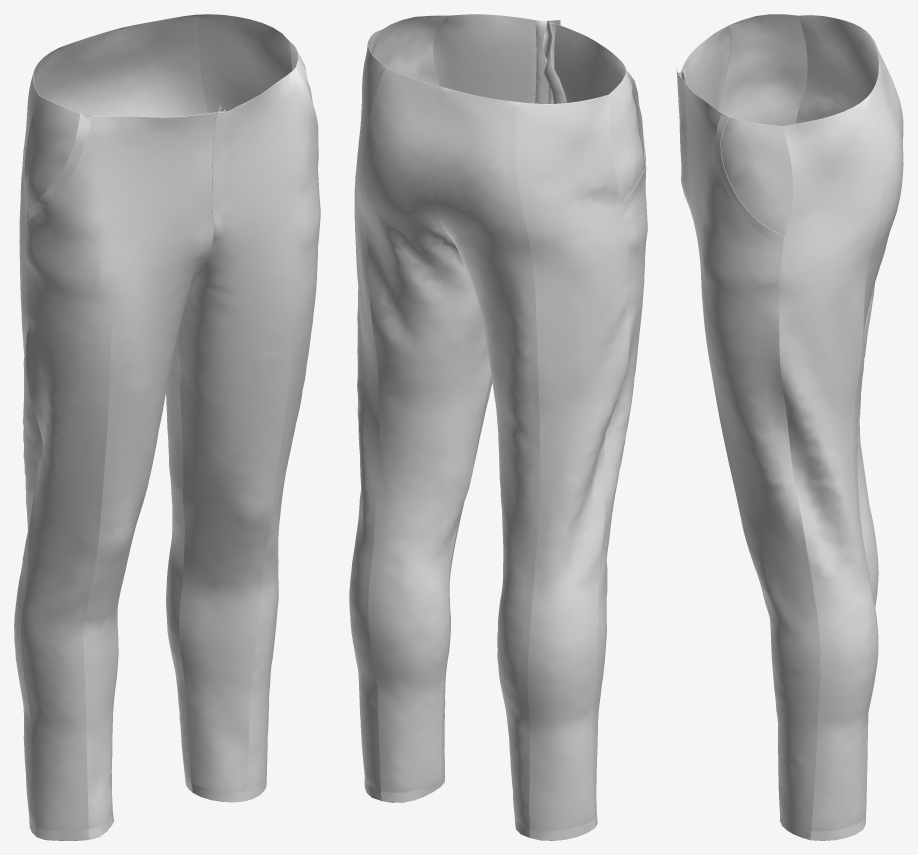
The model's file is flat_front.glb.
3 views of the same model, side by side, from view 1: azimuth 30°, elevation 25°; view 2: azimuth 150°, elevation 25°; view 3: azimuth 270°, elevation 25° (orthographic). The views are drawn at different scales.
Visible parts, largest first — view 1: Pattern_889322_Node, Pattern_889325_Node, Pattern_889317_Node, Pattern_889309_Node, Pattern_1021232_Node, Pattern_889323_Node, Pattern_889319_Node, Pattern_889321_Node; view 2: Pattern_889309_Node, Pattern_889317_Node, Pattern_889322_Node, Pattern_889325_Node, Pattern_1021233_Node, Pattern_1021232_Node, Pattern_2661109_Node, Pattern_889310_Node, Pattern_2703632_Node, Pattern_889315_Node; view 3: Pattern_889317_Node, Pattern_889325_Node, Pattern_889309_Node, Pattern_1021232_Node, Pattern_1021233_Node, Pattern_889322_Node, Pattern_889324_Node, Pattern_889315_Node.
Boxes of the visible parts, bbox=[...] form: Pattern_889322_Node: bbox=[21, 112, 215, 831]; Pattern_889325_Node: bbox=[178, 73, 320, 791]; Pattern_889317_Node: bbox=[112, 14, 292, 782]; Pattern_889309_Node: bbox=[14, 27, 122, 825]; Pattern_1021232_Node: bbox=[24, 95, 97, 207]; Pattern_889323_Node: bbox=[26, 113, 92, 222]; Pattern_889319_Node: bbox=[36, 812, 114, 840]; Pattern_889321_Node: bbox=[191, 777, 266, 802]; Pattern_889309_Node: bbox=[432, 88, 629, 830]; Pattern_889317_Node: bbox=[349, 29, 490, 792]; Pattern_889322_Node: bbox=[554, 24, 647, 818]; Pattern_889325_Node: bbox=[433, 14, 560, 776]; Pattern_1021233_Node: bbox=[373, 15, 447, 86]; Pattern_1021232_Node: bbox=[609, 63, 643, 203]; Pattern_2661109_Node: bbox=[542, 20, 566, 103]; Pattern_889310_Node: bbox=[514, 814, 594, 840]; Pattern_2703632_Node: bbox=[534, 20, 546, 103]; Pattern_889315_Node: bbox=[364, 778, 441, 802]; Pattern_889317_Node: bbox=[779, 67, 903, 831]; Pattern_889325_Node: bbox=[676, 66, 820, 830]; Pattern_889309_Node: bbox=[796, 15, 903, 607]; Pattern_1021232_Node: bbox=[718, 14, 807, 126]; Pattern_1021233_Node: bbox=[720, 112, 792, 236]; Pattern_889322_Node: bbox=[682, 23, 732, 110]; Pattern_889324_Node: bbox=[715, 114, 783, 249]; Pattern_889315_Node: bbox=[810, 815, 865, 840].
Bounding box in the file's own units: 37.03 × 96.05 × 27.24.
Materials: 56 (4 with a texture image).
